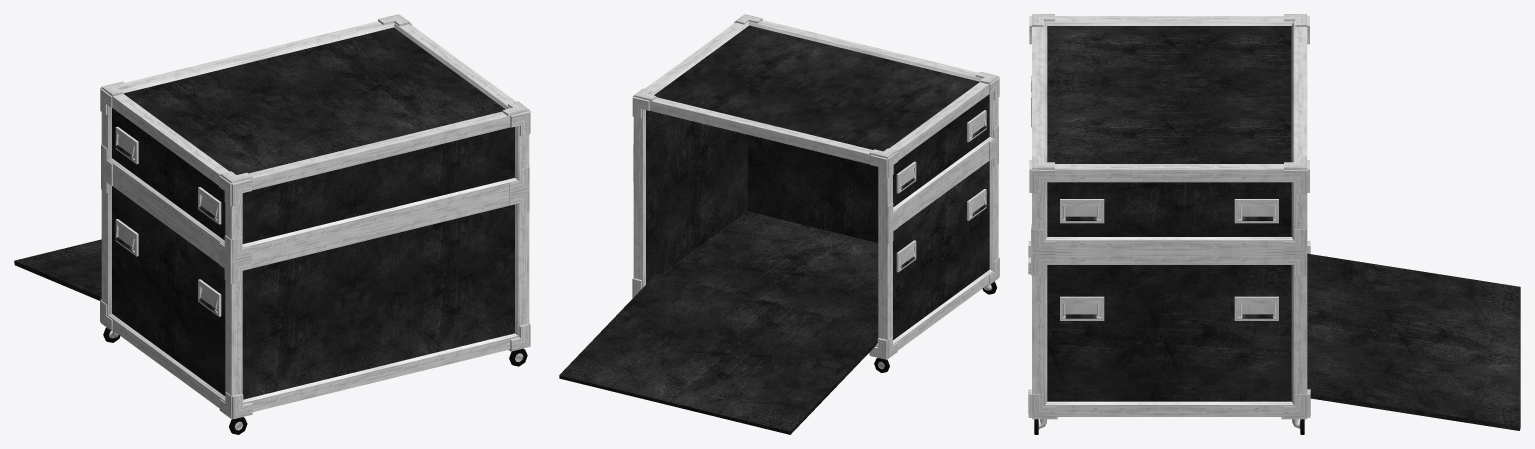
File: w_flight_case_big_op.fbx
The picture shows the model from 3 angles, left to right: view 1: azimuth 30°, elevation 25°; view 2: azimuth 150°, elevation 25°; view 3: azimuth 270°, elevation 25°; orthographic projection. The views are drawn at different scales.
Parts seen in each view (by area): view 1: w_flight_case_big_op; view 2: w_flight_case_big_op; view 3: w_flight_case_big_op.
Boxes of the visible parts, x1,y1,x2,y2 form: w_flight_case_big_op: (14,14,530,434); w_flight_case_big_op: (559,14,999,434); w_flight_case_big_op: (1028,14,1520,434).
Bounding box in the file's own units: 1.65 × 1.33 × 2.19.
